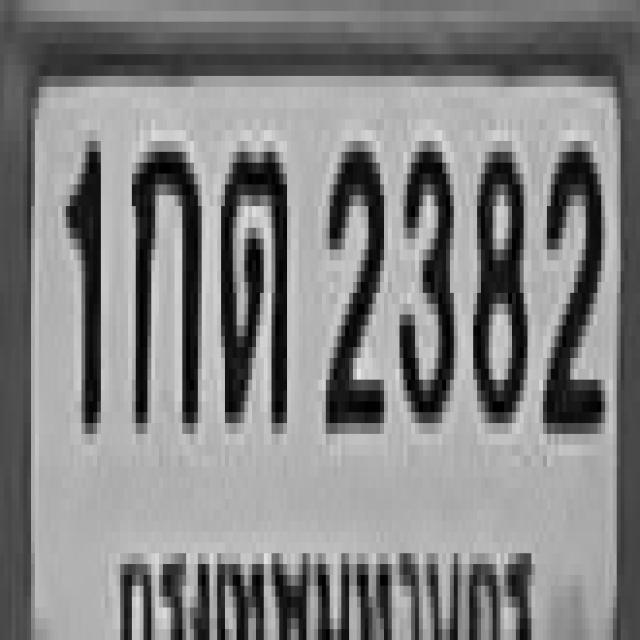1: (62, 130, 97, 423)
10GorGai: (128, 130, 198, 423)
2: (539, 130, 601, 423), (322, 130, 380, 423)
3: (396, 130, 450, 412)
30TorTao: (217, 141, 283, 423)
8: (469, 141, 524, 412)
